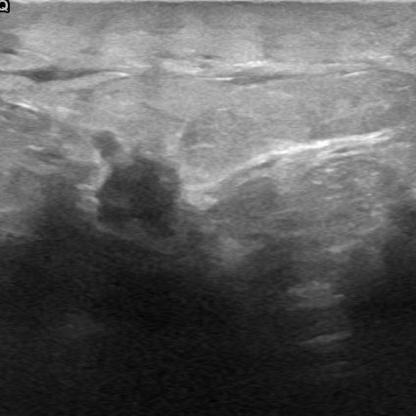malignant: (66, 122, 214, 247)
